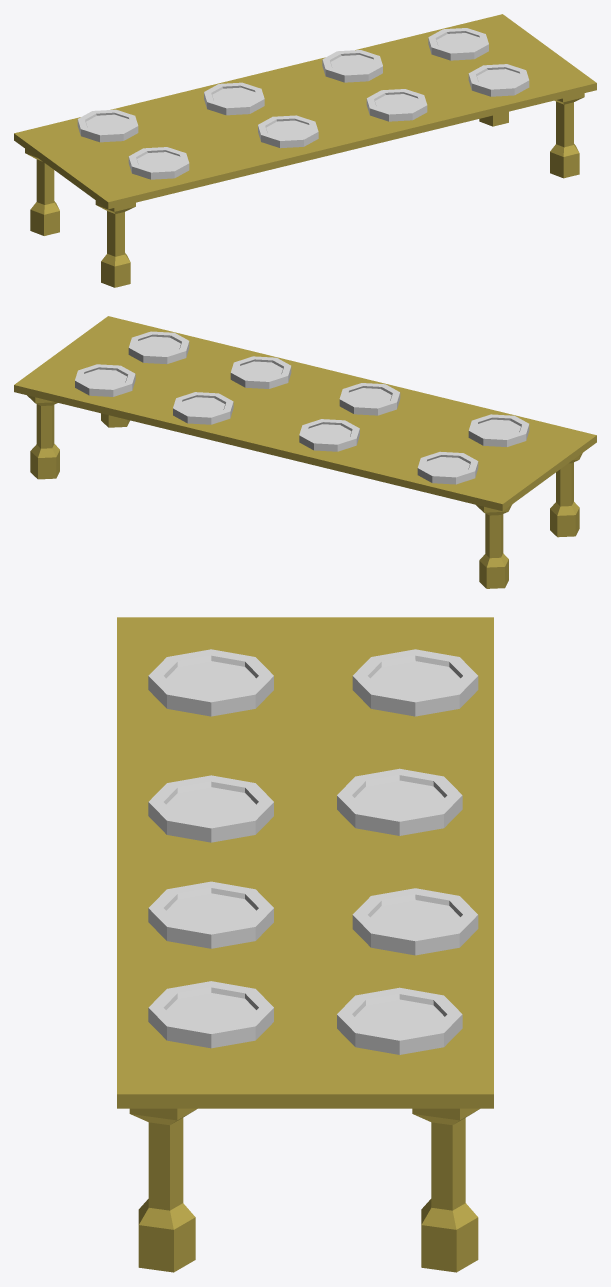
The model's file is dining_table.glb.
3 renders of one model, top to bottom at view 1: azimuth 30°, elevation 25°; view 2: azimuth 150°, elevation 25°; view 3: azimuth 270°, elevation 25°, orthographic. The views are drawn at different scales.
Visible parts, largest first — view 1: Cube; view 2: Cube; view 3: Cube.
Part boxes in pixels (bbox=[...]): Cube: bbox=[14, 14, 596, 287]; Cube: bbox=[14, 316, 596, 588]; Cube: bbox=[117, 617, 493, 1272].
Bounding box in the file's own units: 7.19 × 1.4 × 2.4.
